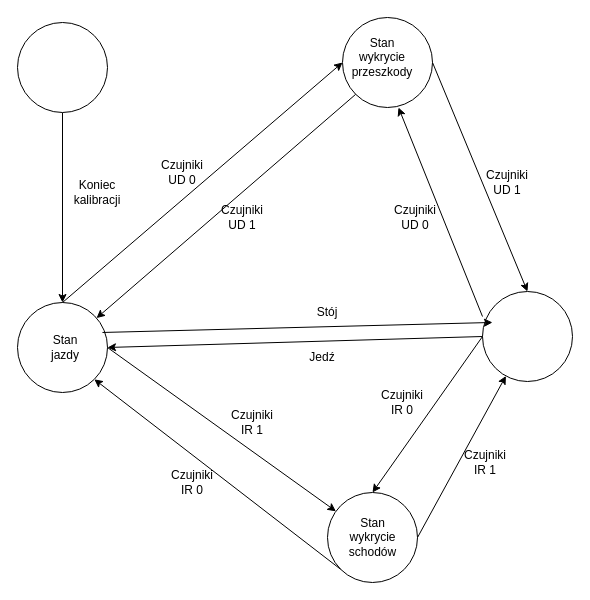
This 590x600 diagram has some shape labels left out. Each missing label, with the box of its shape:
Stan początkowy: (16, 22, 108, 112)
Stan zatrzymania: (482, 290, 572, 382)
